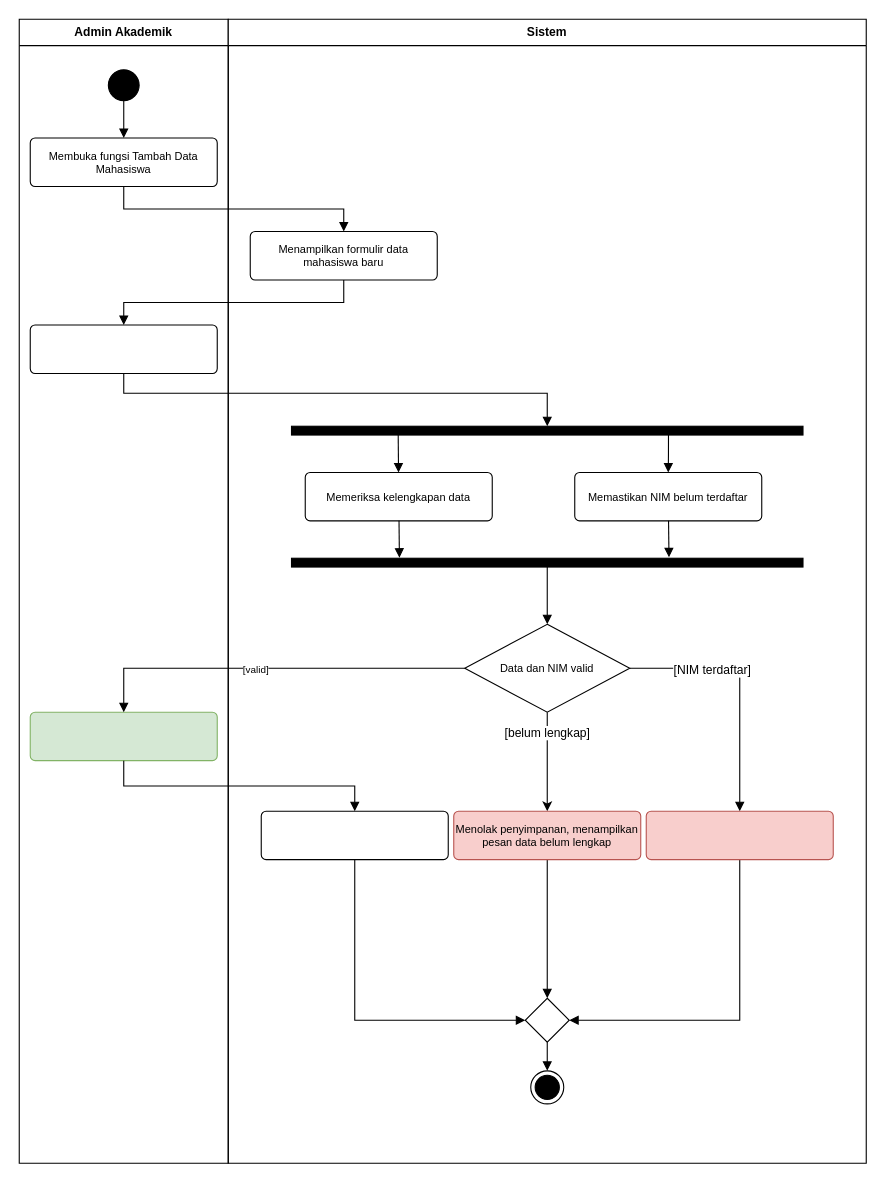
Image size: 886x1183. Some labels were removed from this diagram. Each missing label, with the centre of its shape:
Mengisi data mahasiswa baru: point (123, 348)
Menolak penyimpanan, menampilkan pesan NIM sudah digunakan: point (739, 835)
Menyimpan data dan menampilkan konfirmasi: point (354, 835)
Menyimpan data mahasiswa baru: point (123, 736)
